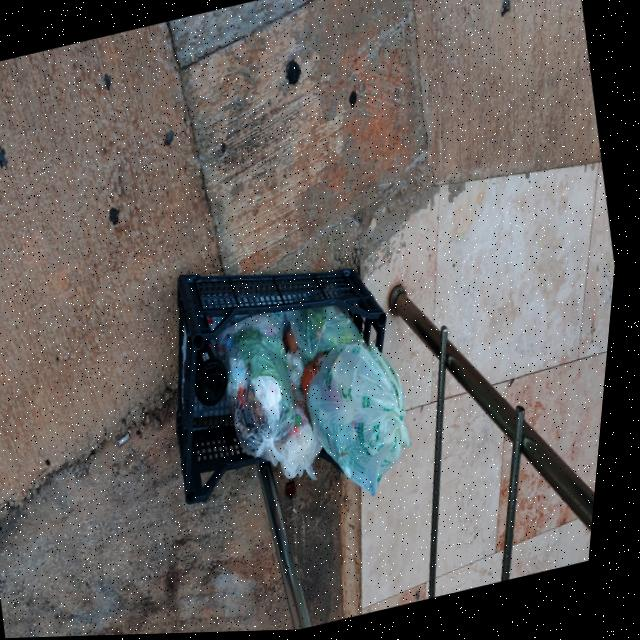Organic Waste -White Bag-: (294, 336, 440, 517), (212, 305, 322, 479), (280, 291, 385, 387), (269, 382, 344, 496)
Other: (144, 226, 431, 515), (191, 339, 243, 415)
